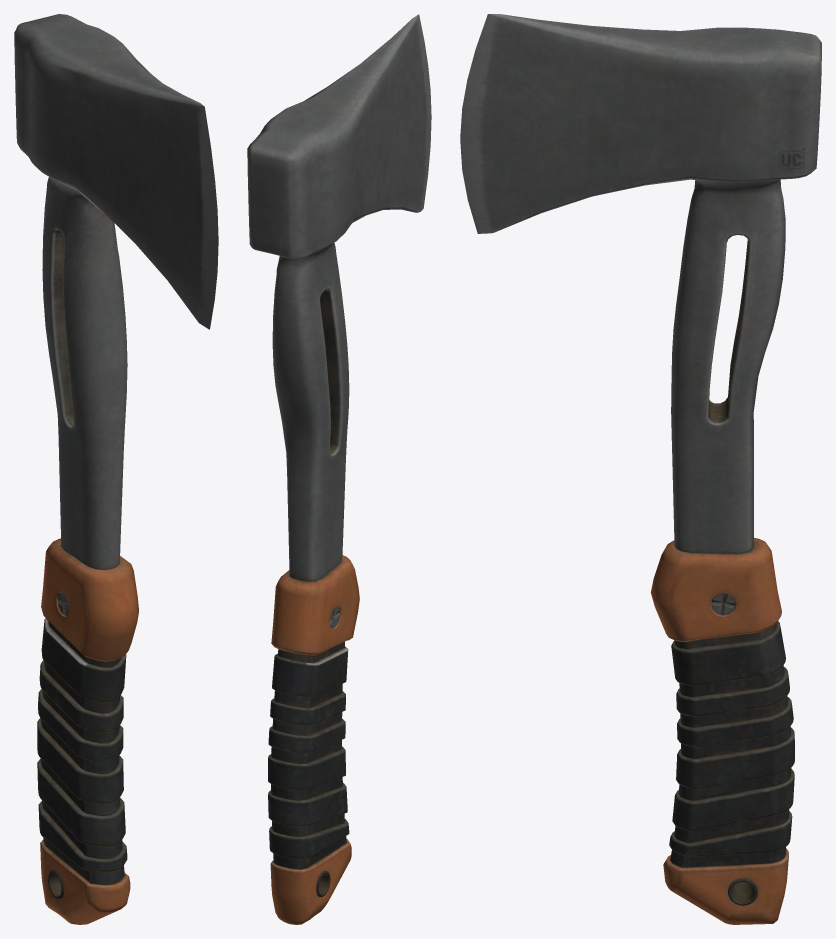
The model's file is hatchet_lite.gltf.
3 renders of one model, left to right at view 1: azimuth 30°, elevation 25°; view 2: azimuth 150°, elevation 25°; view 3: azimuth 270°, elevation 25°, orthographic. The views are drawn at different scales.
Visible parts, largest first — view 1: hatchet; view 2: hatchet; view 3: hatchet.
Boxes of the visible parts, box(x1,y1,x2,y2) form: hatchet: box(14, 14, 218, 924); hatchet: box(247, 14, 431, 924); hatchet: box(460, 14, 821, 924).
Bounding box in the file's own units: 0.026 × 0.2887 × 0.1043.
1 material, 1 textured.
